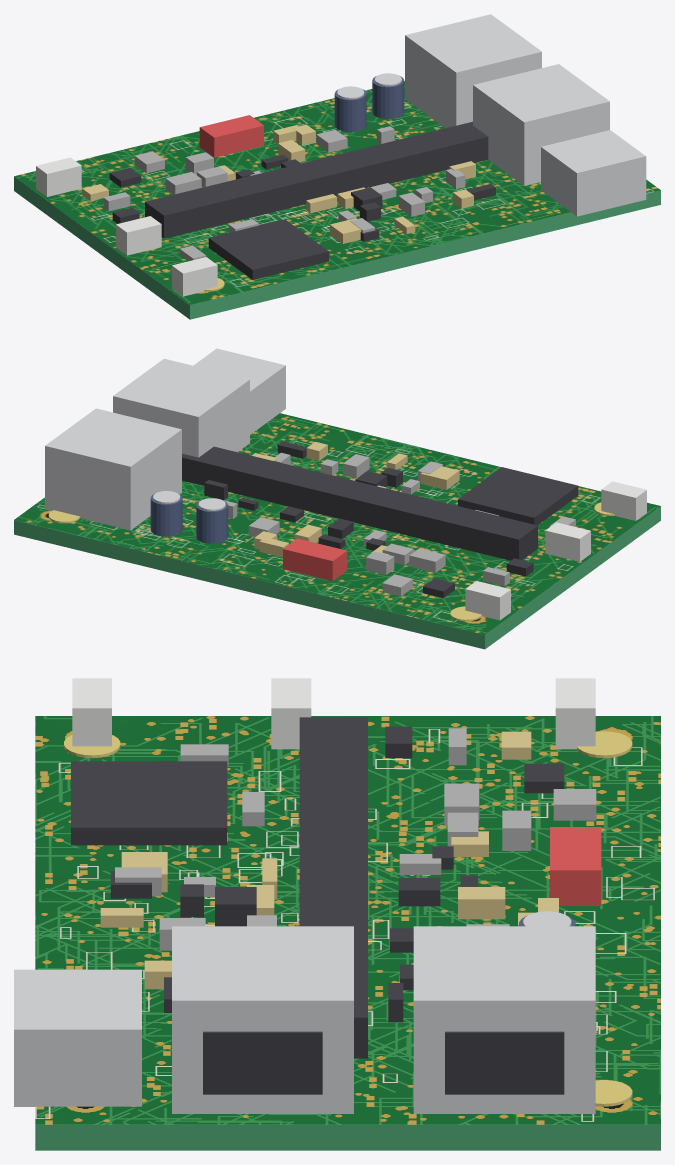
3 renders of one model, top to bottom at view 1: azimuth 30°, elevation 25°; view 2: azimuth 150°, elevation 25°; view 3: azimuth 270°, elevation 25°, orthographic. The views are drawn at different scales.
Parts seen in each view (by area): view 1: pcb_top, silver, ic, pcb_body, res, white, tan, cap, red; view 2: pcb_top, silver, ic, pcb_body, res, white, tan, cap, red, gold; view 3: pcb_top, silver, ic, pcb_body, res, white, tan, red, gold.
Boxes of the visible parts, x1,y1,x2,y2 form: pcb_top: (14,81,660,304); silver: (337,14,646,216); ic: (109,121,495,279); pcb_body: (14,176,660,319); res: (103,126,465,260); white: (36,157,217,296); tan: (82,124,475,243); cap: (334,76,404,131); red: (199,115,263,157); pcb_top: (14,413,660,634); silver: (45,348,285,530); ic: (182,441,578,598); pcb_body: (14,506,660,649); res: (224,452,575,596); white: (465,481,646,620); tan: (252,442,459,557); cap: (150,493,228,543); red: (283,538,347,581); gold: (48,502,614,621); pcb_top: (35,716,660,1124); silver: (14,911,595,1113); ic: (71,717,564,1094); pcb_body: (35,1124,660,1150); res: (115,728,596,950); white: (72,678,595,749); tan: (100,731,558,989); red: (550,827,601,905); gold: (64,731,632,1106).
Size of the model in its own units: 3.4 by 0.54 by 2.27.
10 materials, 1 textured.
